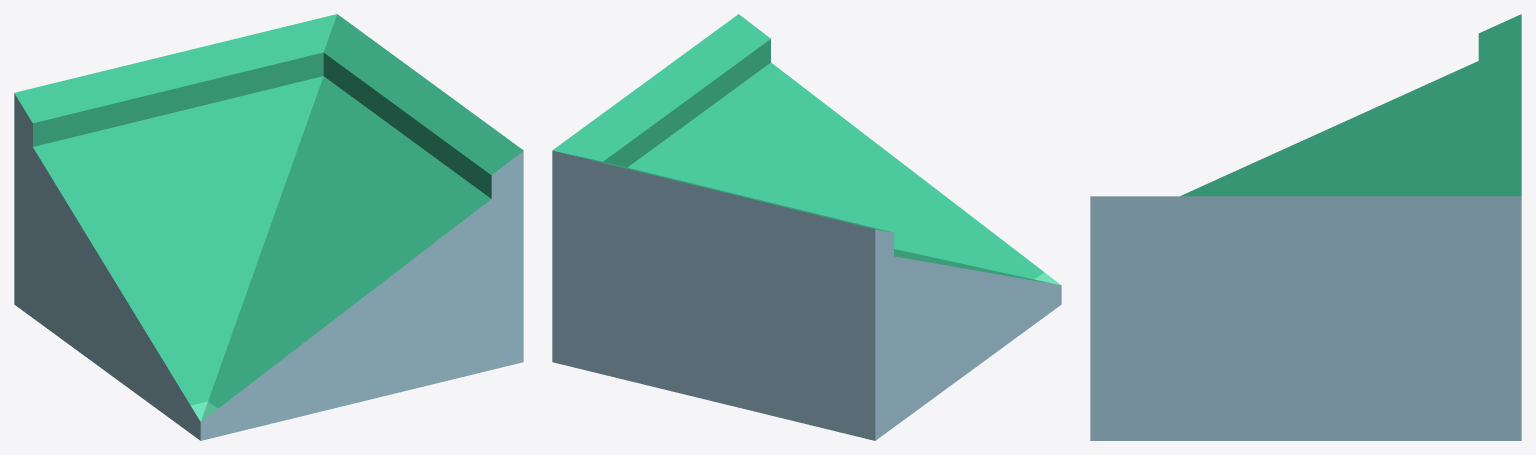
File: roofCornerInner.fbx
3 views of the same model, side by side, from view 1: azimuth 30°, elevation 25°; view 2: azimuth 150°, elevation 25°; view 3: azimuth 270°, elevation 25° (orthographic). The views are drawn at different scales.
Parts seen in each view (by area): view 1: roofCornerInner; view 2: roofCornerInner; view 3: roofCornerInner.
Part boxes in pixels (x1,y1,x2,y2): roofCornerInner: (14,14,523,440); roofCornerInner: (552,14,1061,440); roofCornerInner: (1090,14,1521,440).
Bounding box in the file's own units: 10 × 6.26 × 10.
